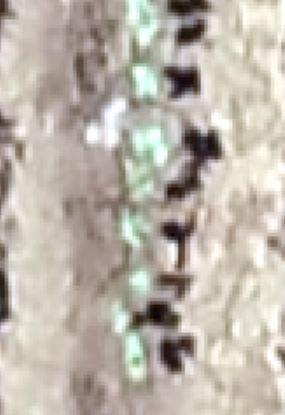cotton: (135, 63, 161, 98), (131, 129, 166, 153), (124, 155, 153, 183), (128, 3, 155, 31), (122, 214, 144, 243), (127, 343, 146, 376), (133, 271, 155, 292), (112, 310, 130, 329)
